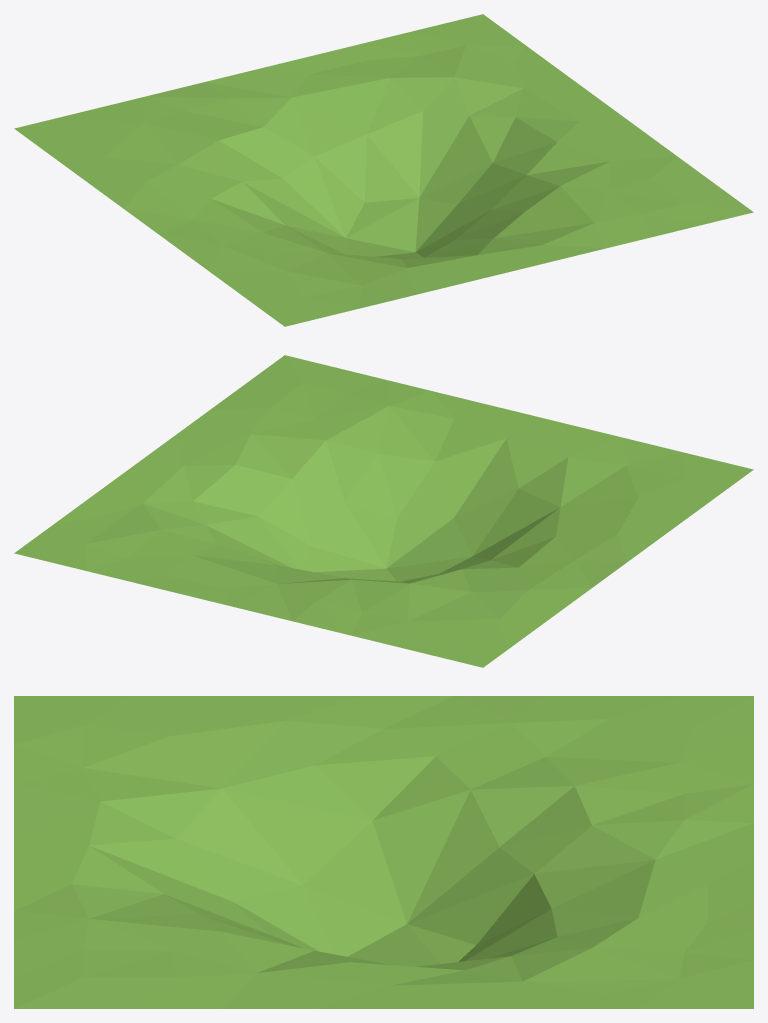
File: MT_Terrain_S_b_06_LOD.fbx
The picture shows the model from 3 angles, top to bottom: view 1: azimuth 30°, elevation 25°; view 2: azimuth 150°, elevation 25°; view 3: azimuth 270°, elevation 25°; orthographic projection. The views are drawn at different scales.
Parts seen in each view (by area): view 1: MT_Terrain_S_b_06_LOD0; view 2: MT_Terrain_S_b_06_LOD0; view 3: MT_Terrain_S_b_06_LOD0.
Part boxes in pixels (box(x1,y1,x2,y2)): MT_Terrain_S_b_06_LOD0: box(14, 14, 753, 326); MT_Terrain_S_b_06_LOD0: box(14, 355, 753, 667); MT_Terrain_S_b_06_LOD0: box(14, 696, 753, 1008).
Size of what is drawn, in the model's own units: 2500 by 384 by 2500.
